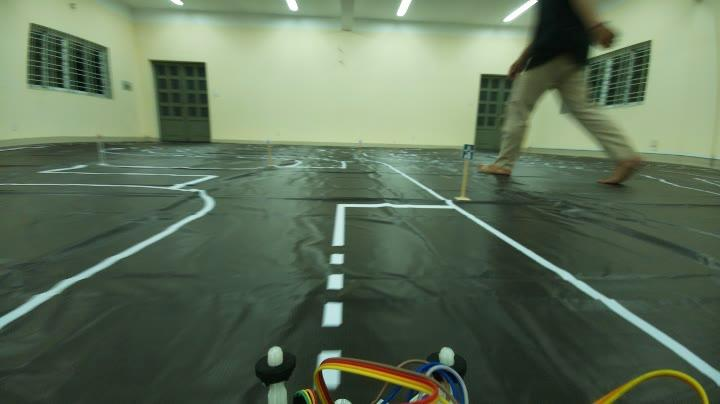highway_exit: (458, 138, 475, 166)
